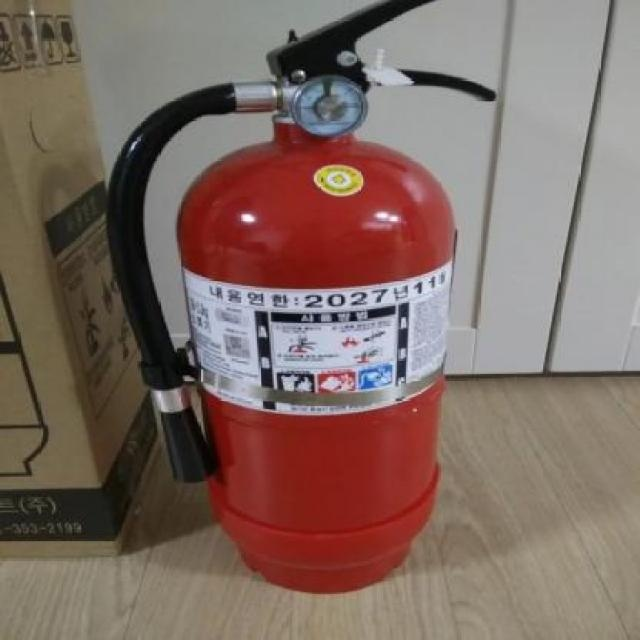fire extinguisher: (104, 0, 498, 594)
